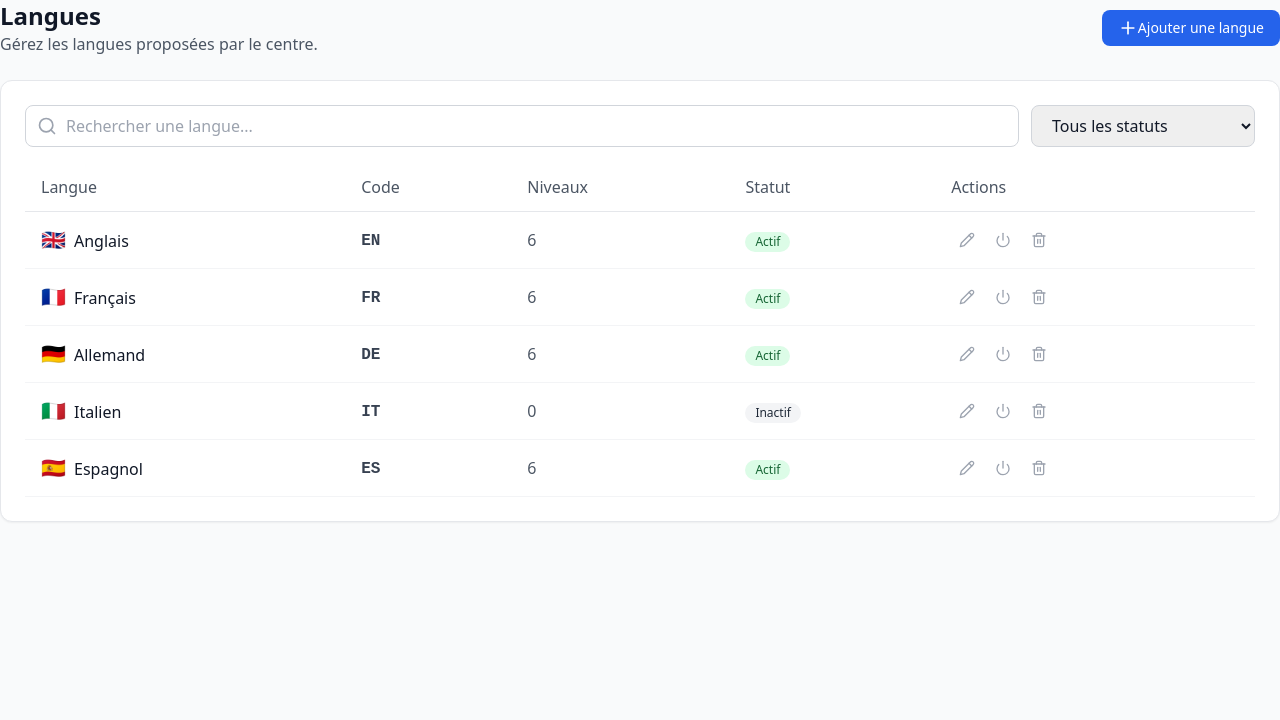
it: Languages page (démo locale) › deletes a language after confirmation
The image size is (1280, 720).
// Italien n'a aucun niveau : suppression autorisée
Click the button named "Supprimer Italien": (1039, 411) x1=1023 y1=395 x2=1055 y2=427
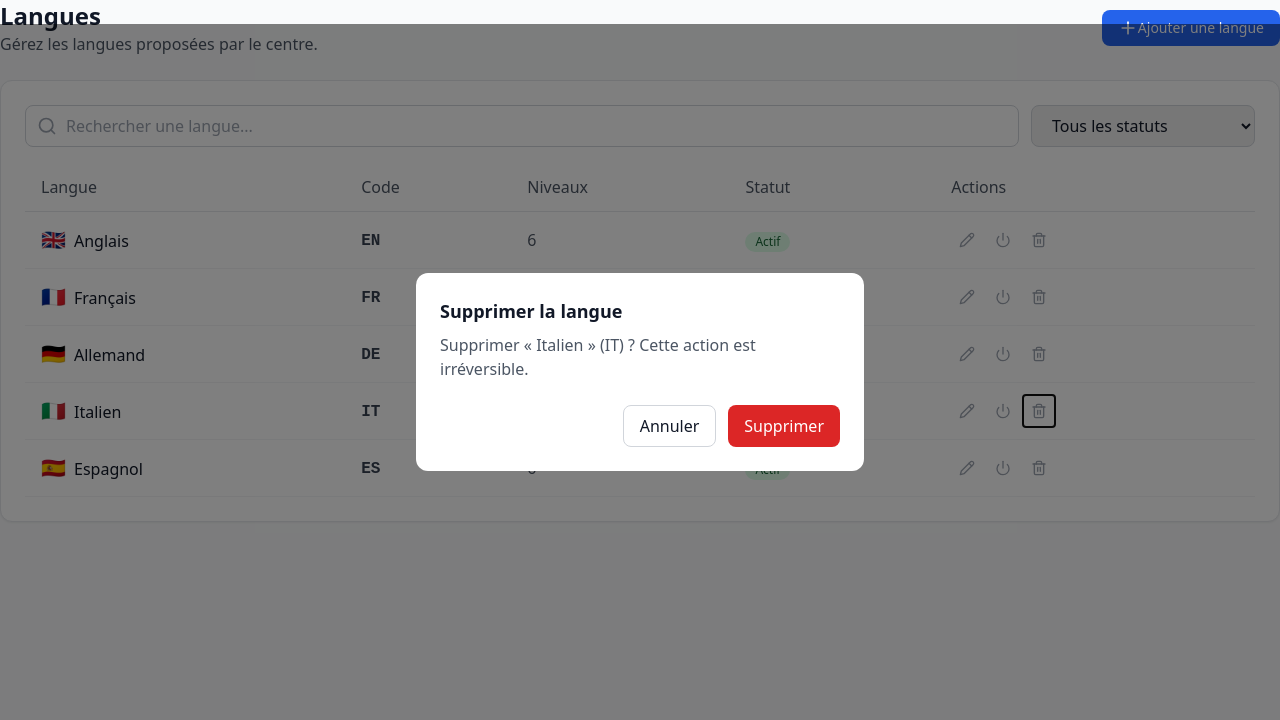
Click the button "Supprimer": (784, 426) x1=728 y1=405 x2=840 y2=447
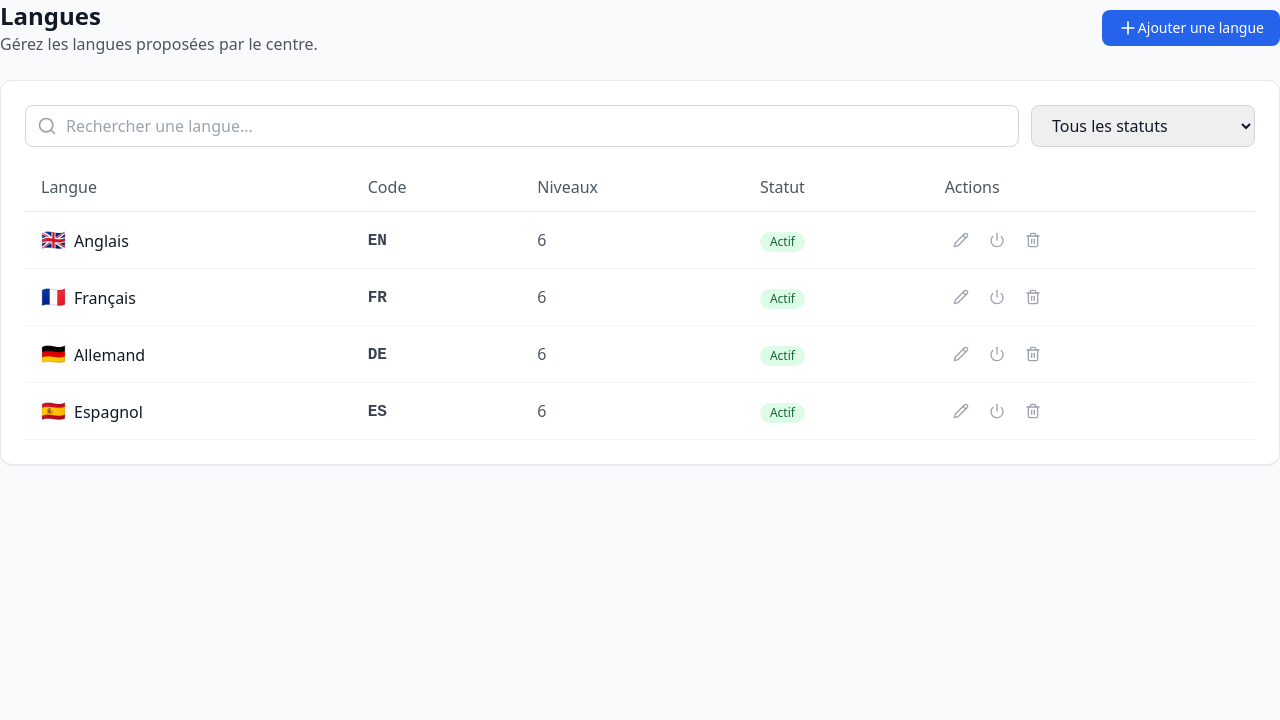
Result: the text "Italien" is gone
